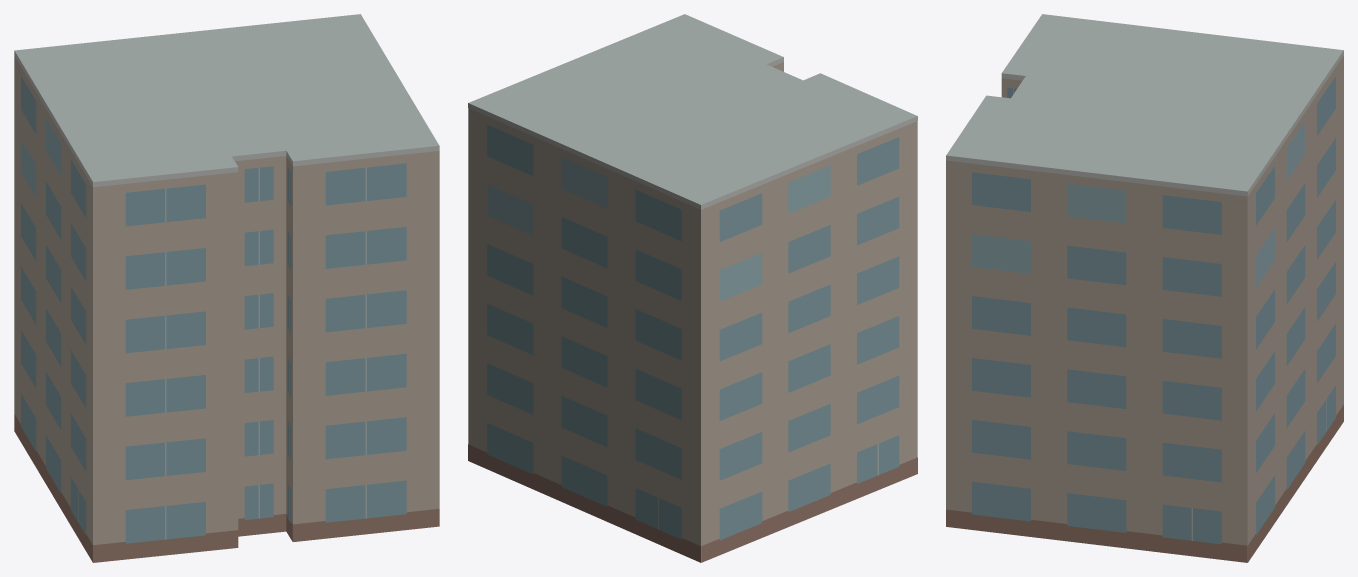
The model's file is survey-upis-32876163.glb.
The picture shows the model from 3 angles, left to right: view 1: azimuth 30°, elevation 25°; view 2: azimuth 150°, elevation 25°; view 3: azimuth 270°, elevation 25°; orthographic projection. The views are drawn at different scales.
Visible parts, largest first — view 1: survey-upis-32876163.tmp; view 2: survey-upis-32876163.tmp; view 3: survey-upis-32876163.tmp.
Part boxes in pixels (box(x1,y1,x2,y2)): survey-upis-32876163.tmp: box(14, 14, 439, 562); survey-upis-32876163.tmp: box(468, 14, 917, 562); survey-upis-32876163.tmp: box(946, 14, 1343, 562).
Size of the model in its own units: 18.46 by 18 by 17.48.
